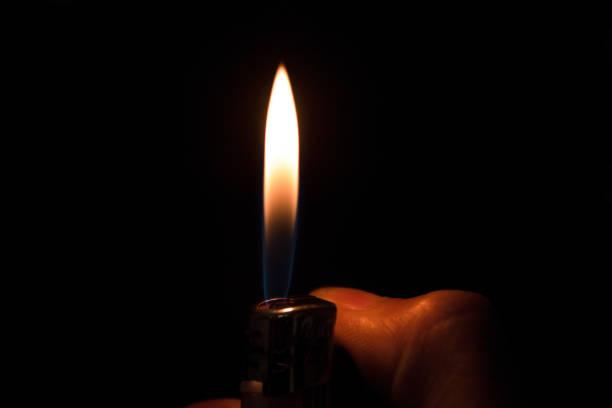Fire: (258, 58, 304, 303)
